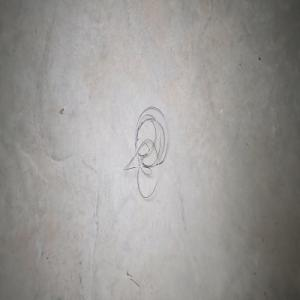Wire: (123, 106, 167, 198)
